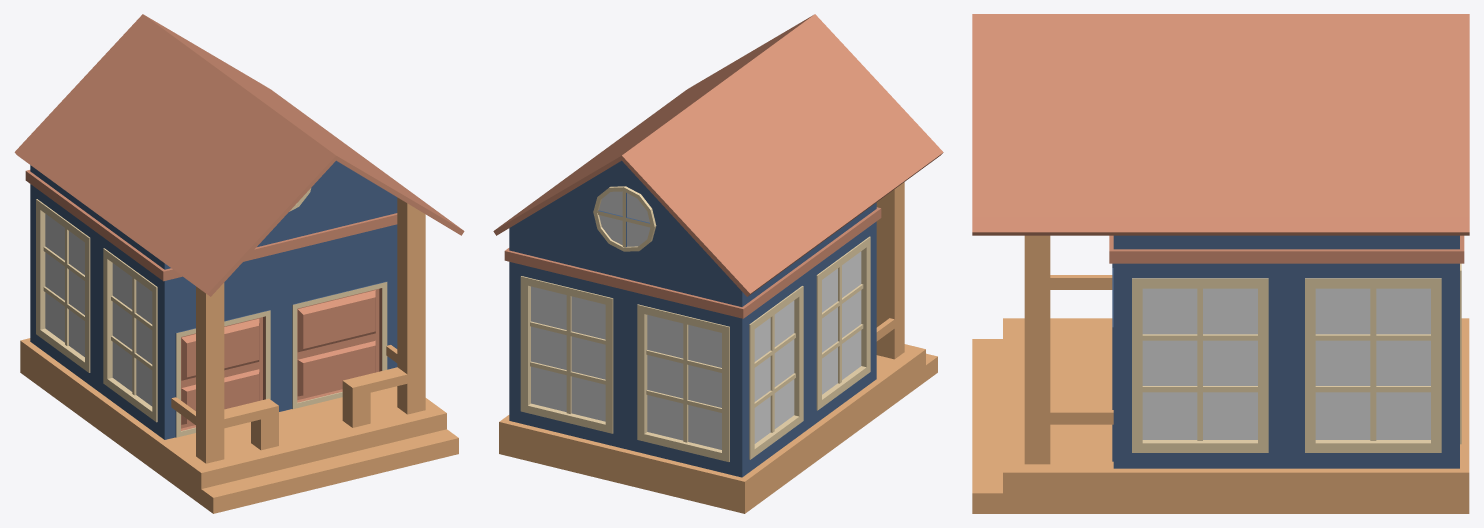
The model's file is suburban-house-D.fbx.
3 renders of one model, left to right at view 1: azimuth 30°, elevation 25°; view 2: azimuth 150°, elevation 25°; view 3: azimuth 270°, elevation 25°, orthographic. The views are drawn at different scales.
Visible parts, largest first — view 1: suburban-house-D; view 2: suburban-house-D; view 3: suburban-house-D.
Part boxes in pixels (x1,y1,x2,y2): suburban-house-D: [14, 14, 464, 513]; suburban-house-D: [493, 14, 943, 513]; suburban-house-D: [972, 14, 1469, 513].
Bounding box in the file's own units: 7.7 × 9.41 × 10.04.
